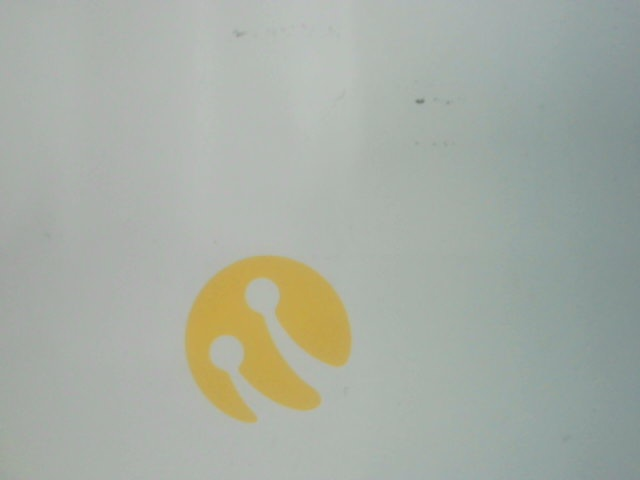AV_H3600Yellow: (172, 250, 372, 428)
